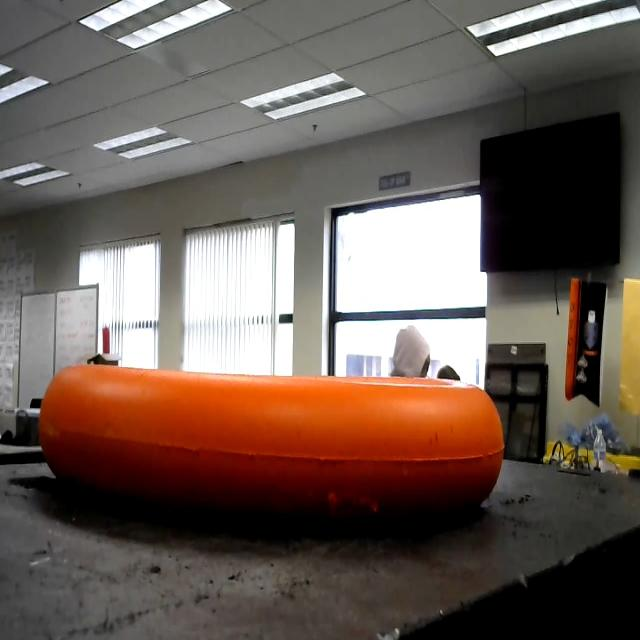note: (34, 352, 526, 527)
